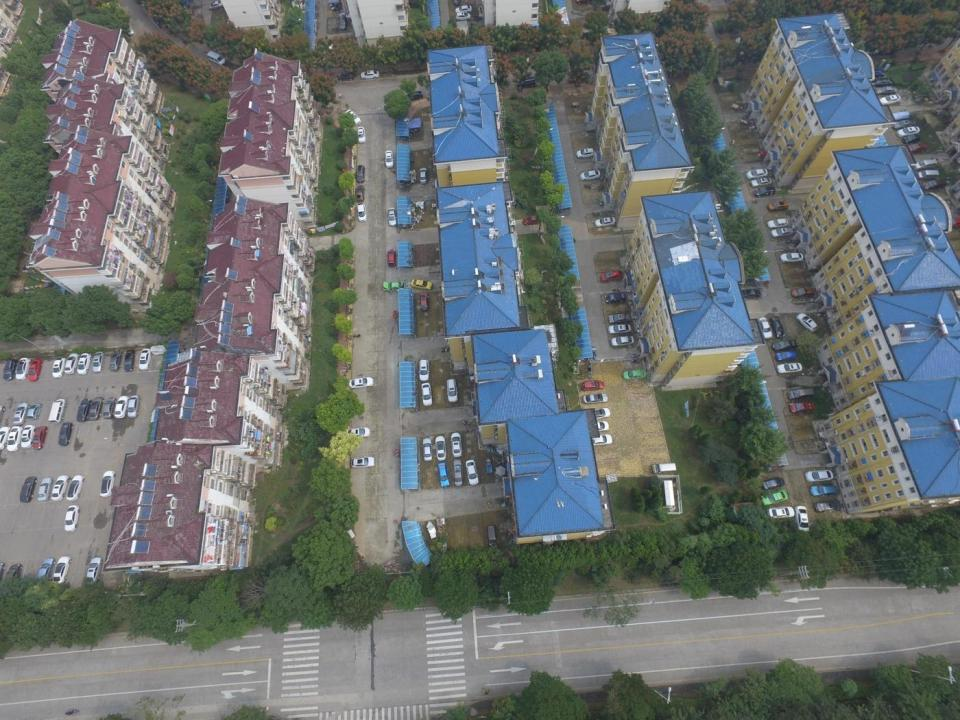car: (66, 474, 85, 501), (53, 556, 71, 584), (37, 557, 56, 583), (3, 564, 22, 590), (52, 474, 70, 501), (86, 557, 103, 585), (795, 312, 818, 332), (20, 476, 37, 503), (760, 490, 788, 506), (64, 505, 80, 532), (795, 505, 810, 533), (100, 471, 116, 497), (15, 357, 32, 381), (7, 426, 23, 451), (804, 469, 834, 482), (88, 396, 104, 420), (57, 422, 73, 446), (20, 424, 36, 448), (38, 478, 54, 502), (13, 403, 30, 425), (32, 426, 48, 449), (809, 484, 837, 497), (766, 506, 794, 519), (77, 398, 92, 422), (2, 358, 18, 380), (28, 359, 44, 381), (64, 353, 80, 375), (114, 396, 130, 418), (466, 459, 479, 486), (815, 500, 842, 513), (437, 462, 450, 488), (769, 317, 785, 338), (761, 477, 785, 491), (77, 353, 92, 375), (758, 317, 773, 339), (349, 376, 374, 389), (452, 459, 464, 485), (772, 340, 798, 352), (600, 270, 624, 283), (103, 397, 117, 419), (585, 421, 610, 433), (139, 348, 152, 371), (127, 395, 140, 418), (383, 281, 406, 294), (582, 393, 609, 404), (52, 357, 66, 378), (0, 426, 12, 450), (351, 456, 375, 468), (446, 378, 458, 402), (586, 408, 610, 420), (588, 434, 612, 446), (790, 402, 816, 413), (421, 383, 433, 406), (418, 359, 430, 382), (770, 227, 793, 239), (878, 94, 901, 106), (451, 432, 462, 457), (779, 252, 804, 263), (777, 362, 802, 373), (92, 352, 105, 373), (345, 109, 361, 126), (346, 427, 370, 438), (421, 437, 432, 461), (435, 436, 446, 460), (411, 279, 433, 291), (746, 168, 768, 180), (607, 324, 631, 335), (610, 336, 634, 347), (892, 119, 916, 130), (896, 126, 920, 137), (27, 403, 42, 420), (608, 312, 631, 323), (110, 350, 122, 371), (580, 169, 601, 181), (622, 370, 647, 380), (750, 177, 772, 188), (754, 186, 776, 197), (594, 217, 616, 228), (582, 380, 604, 391), (516, 76, 536, 88), (791, 288, 815, 298), (124, 350, 135, 371), (908, 143, 929, 154), (874, 86, 897, 96), (766, 201, 788, 211), (766, 218, 788, 228), (775, 351, 797, 361), (738, 289, 760, 299), (576, 148, 596, 159), (605, 293, 625, 304), (405, 90, 423, 102), (522, 214, 540, 226), (356, 203, 367, 222), (870, 78, 893, 87), (387, 208, 398, 226), (337, 70, 353, 82), (867, 68, 886, 78), (384, 150, 394, 168), (902, 134, 920, 144), (360, 70, 379, 79), (355, 185, 365, 202), (356, 165, 365, 183), (387, 249, 396, 267), (568, 74, 586, 83), (152, 16, 166, 27), (357, 126, 366, 143), (208, 1, 224, 10), (420, 292, 428, 310), (456, 5, 472, 14), (420, 167, 428, 184), (123, 24, 134, 36), (949, 217, 960, 228), (339, 15, 347, 30), (456, 12, 471, 20)
van: (48, 398, 67, 424), (787, 388, 815, 401), (913, 158, 938, 172), (206, 50, 226, 66), (652, 462, 676, 474), (922, 179, 946, 191), (487, 526, 498, 550), (917, 170, 939, 180)
